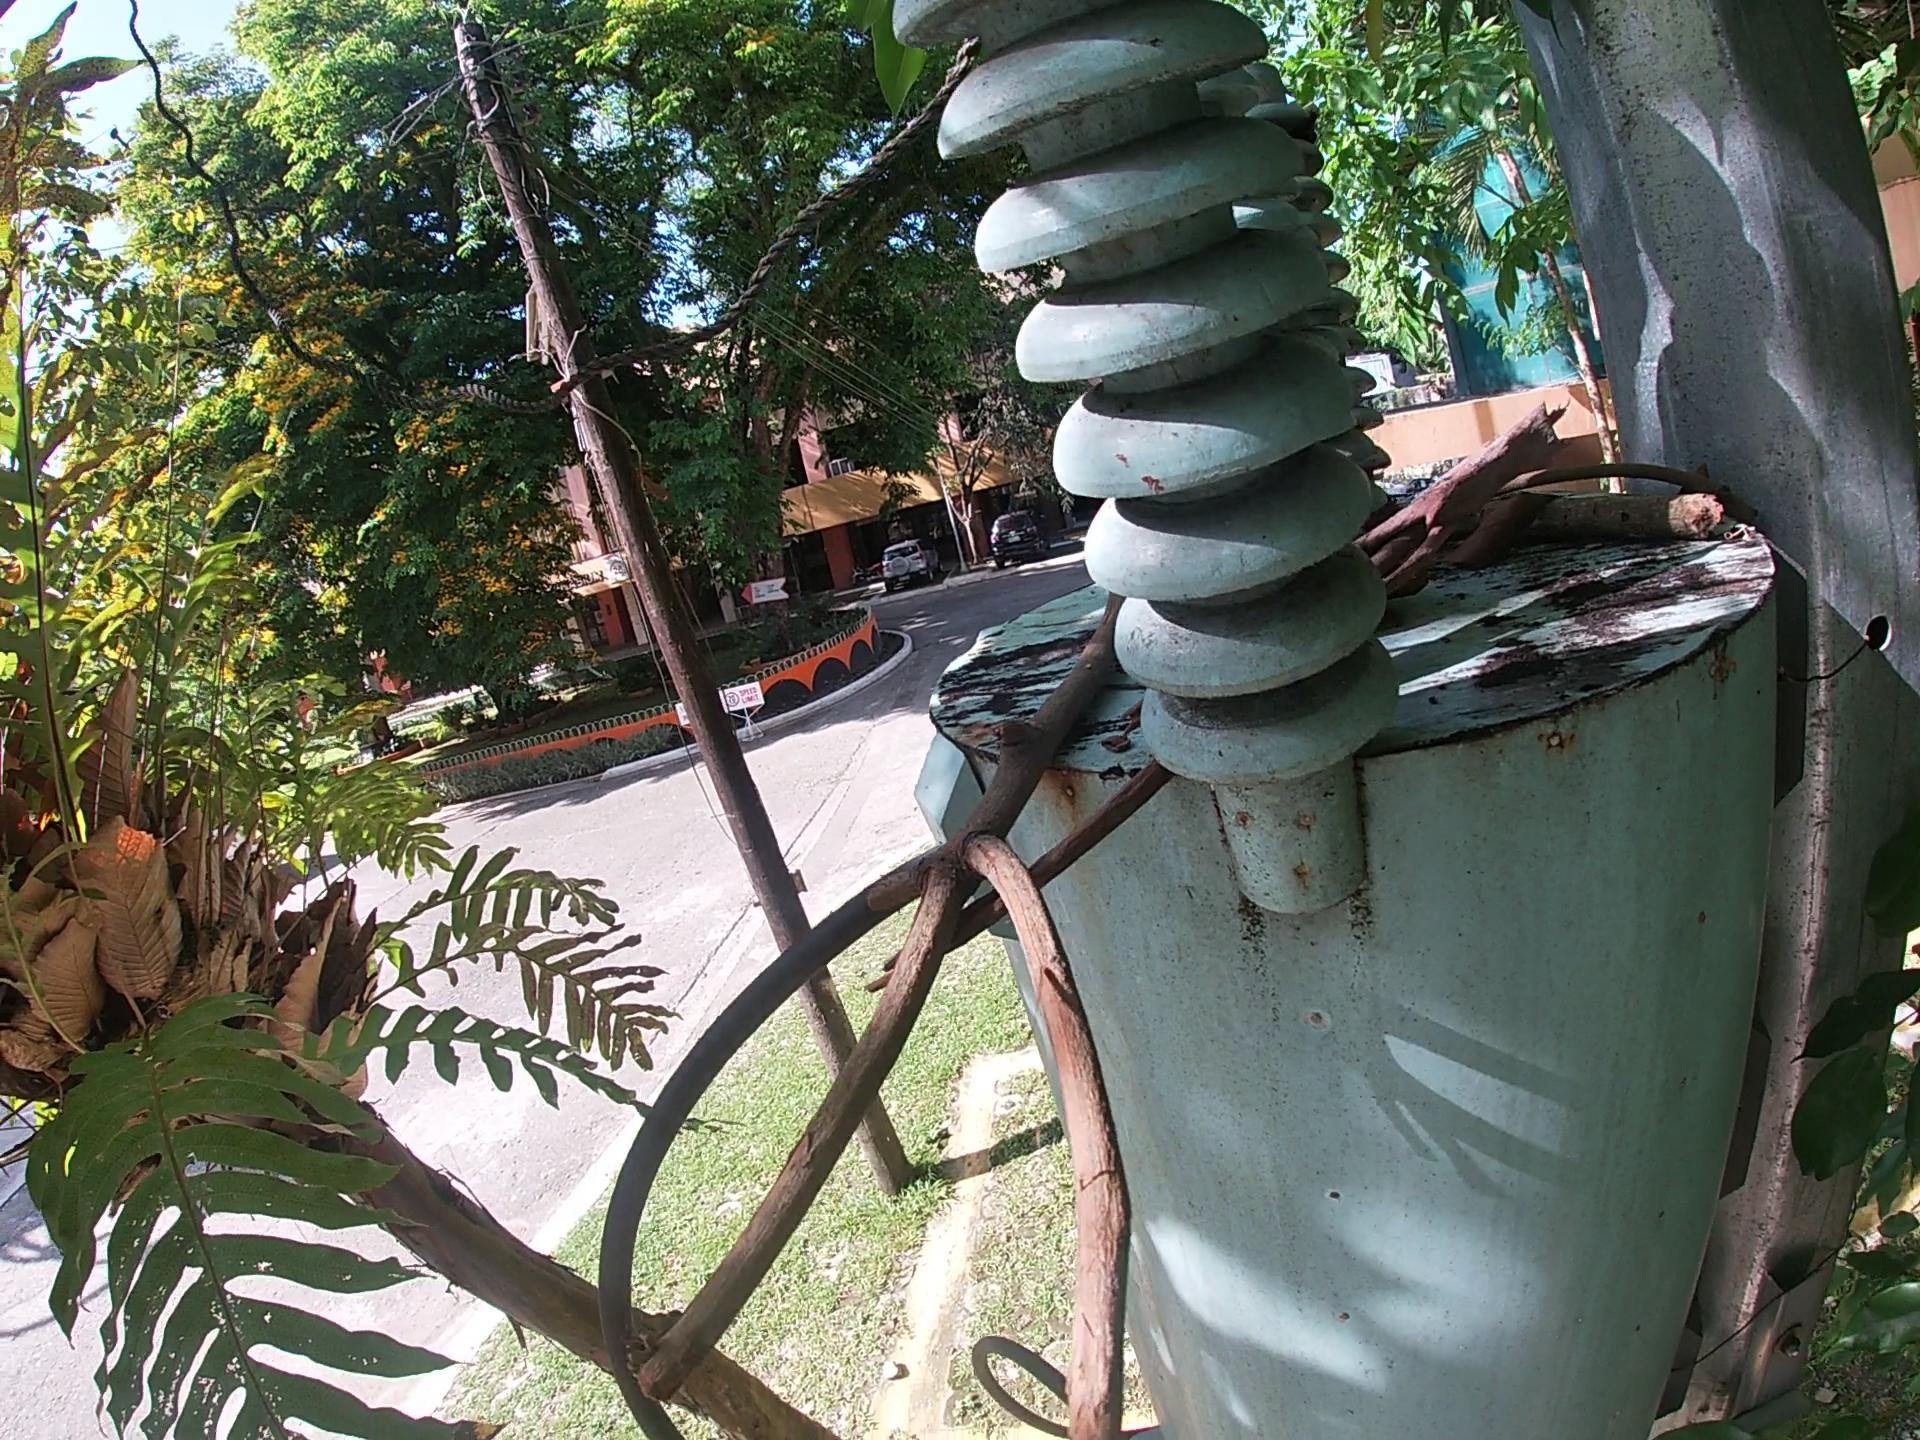leaf: (872, 755, 1175, 995), (1441, 486, 1565, 573)
tree branch: (618, 584, 1143, 1438), (1352, 395, 1574, 605), (1516, 484, 1728, 548), (1516, 460, 1760, 505)
